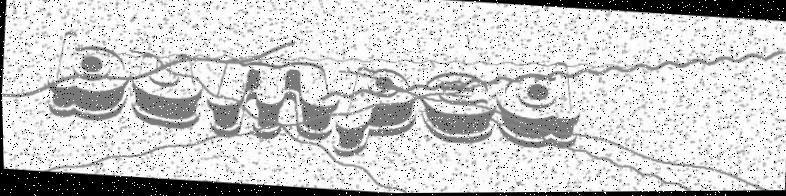b: (42, 28, 134, 124)
d: (493, 58, 584, 153)
e: (415, 70, 499, 147)
m: (202, 56, 341, 147)
p: (331, 65, 420, 163)
u: (127, 50, 205, 132)
